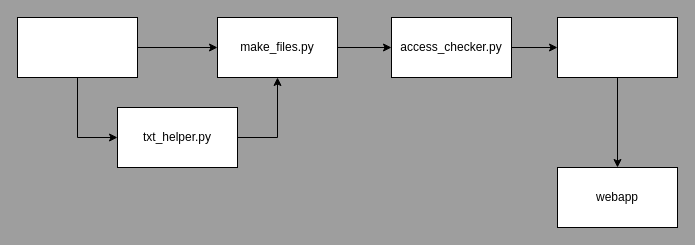
Some shapes in this 695 by 245 pixel diagram are drawn without their labels. The shapes that lost their labels are listed below. From the top down, each one's centre as x and y in pixels, then its label:
At pixel 77 47: "poc.py".
At pixel 617 47: "make_json.py".
